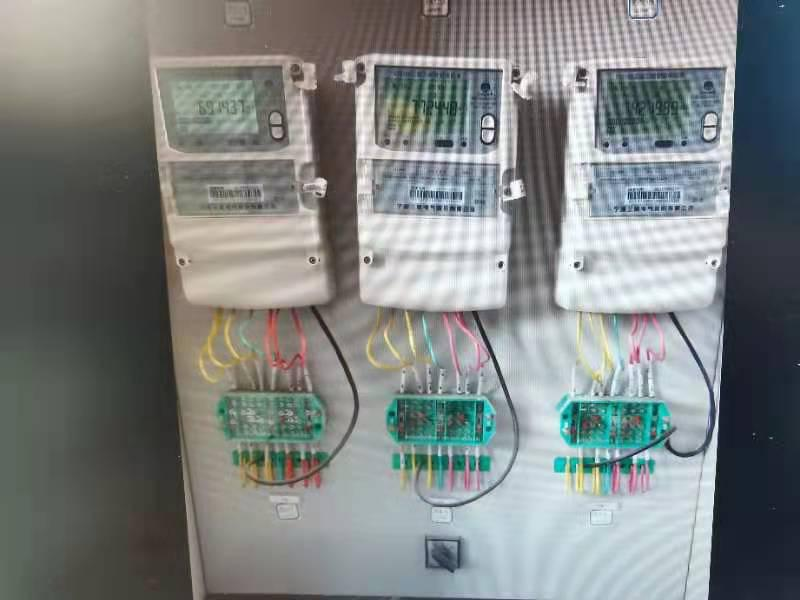digital: (150, 56, 331, 309), (559, 58, 733, 313), (356, 54, 514, 311)
